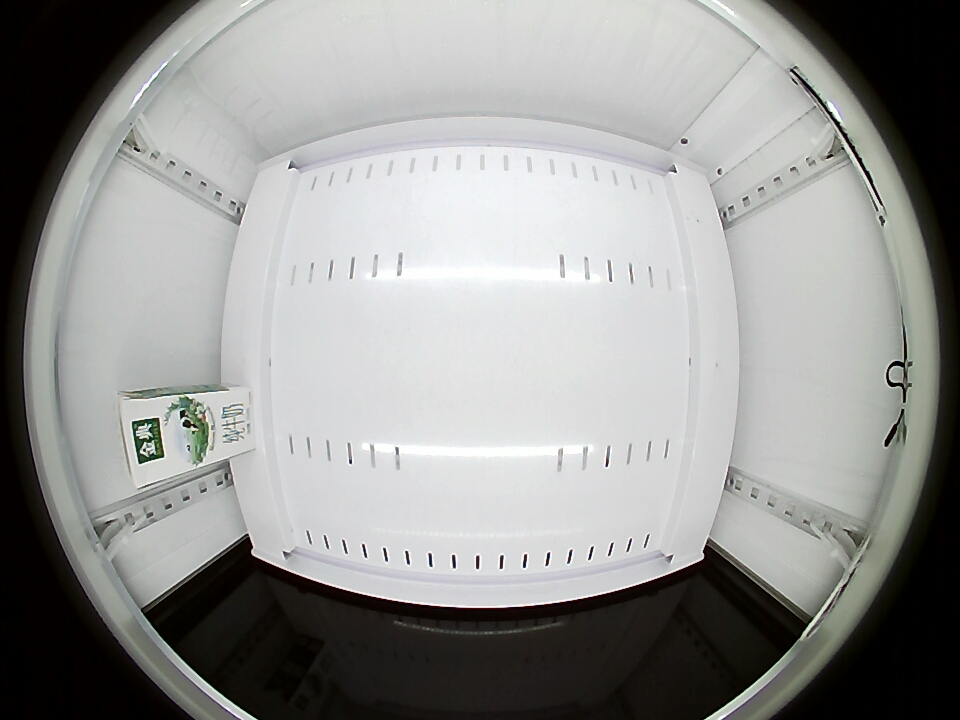jindian: (117, 389, 187, 488)
